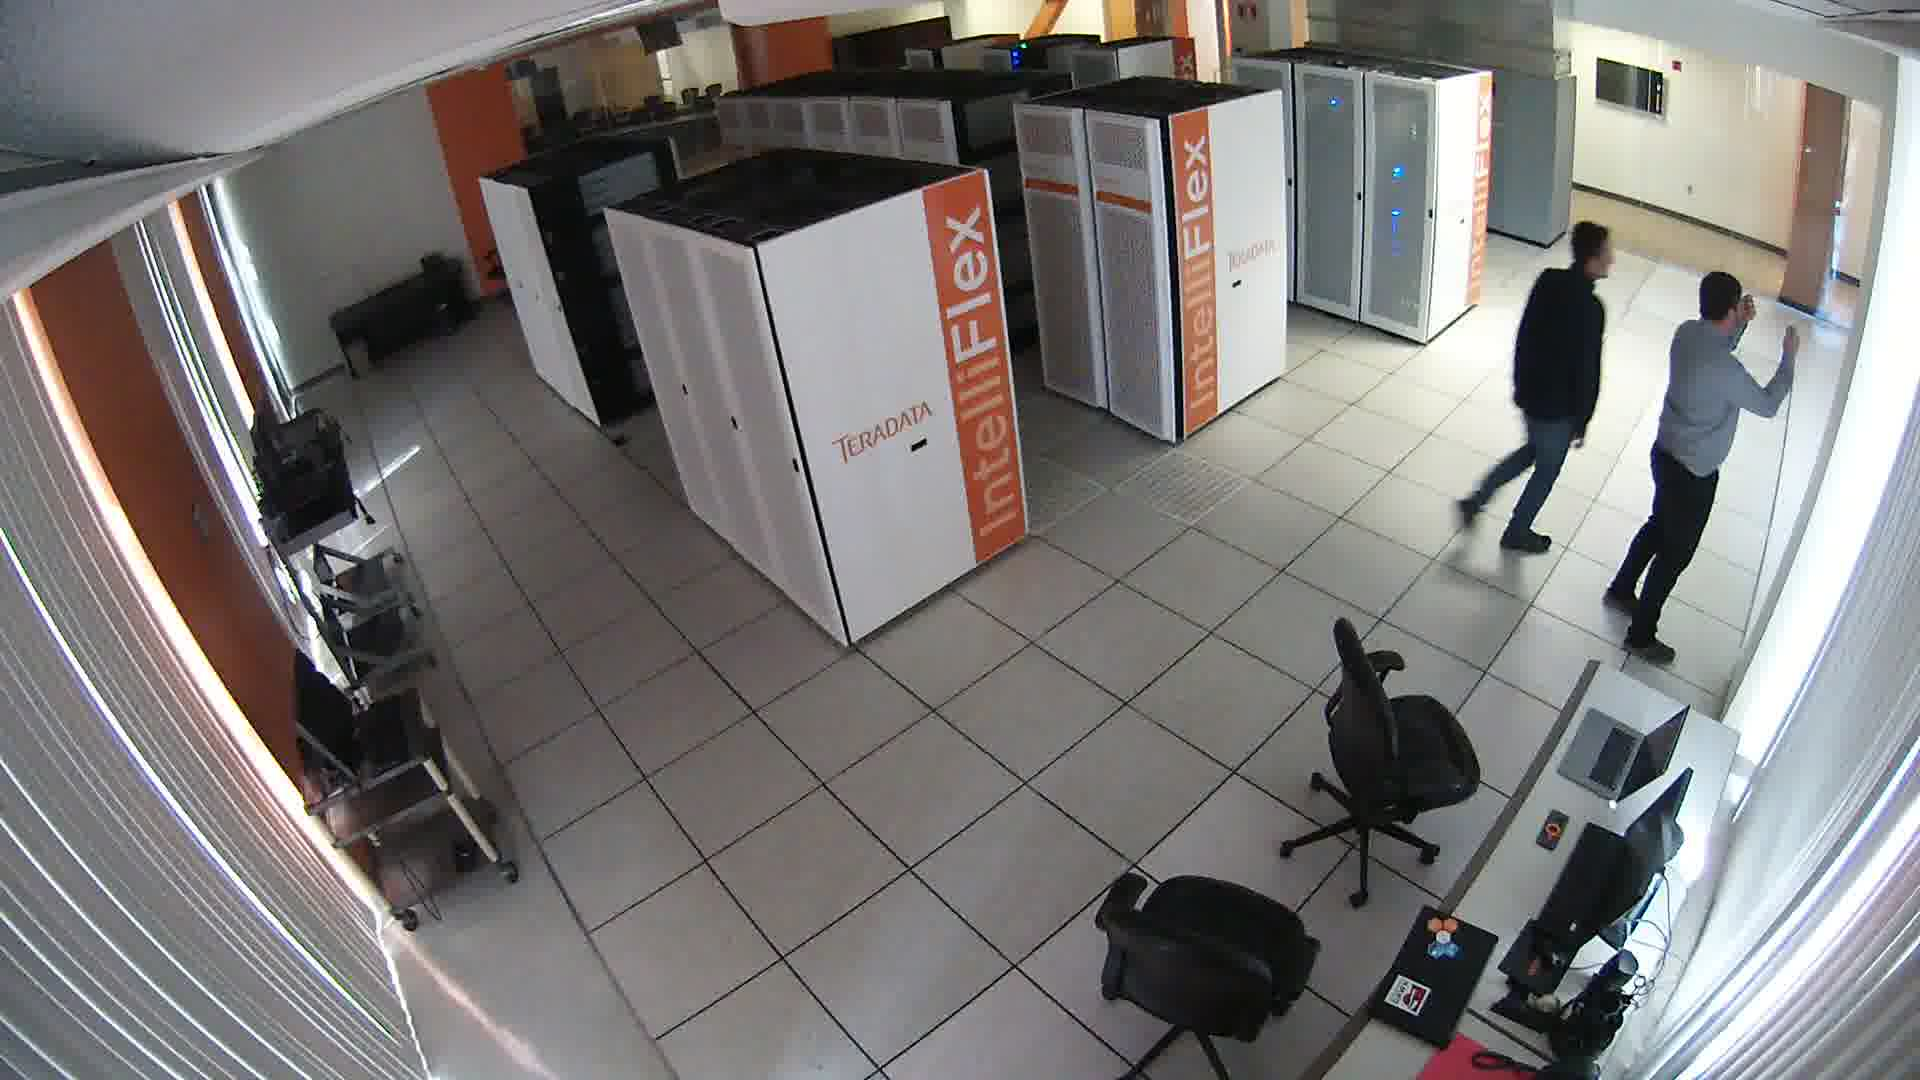person: (1629, 286, 1814, 677), (1456, 218, 1629, 558)
